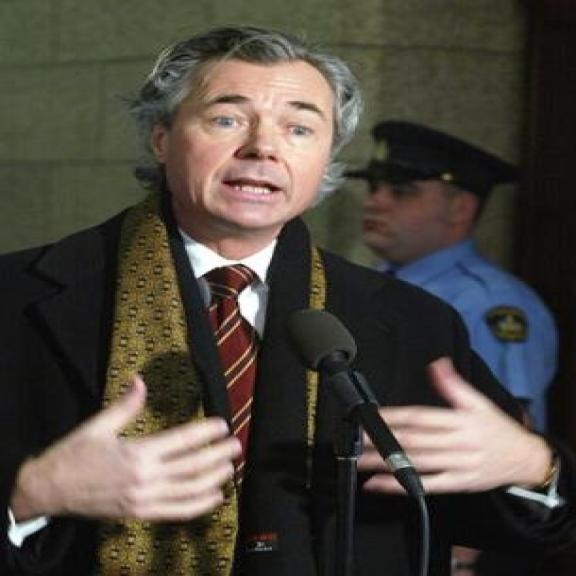face: (148, 58, 344, 235), (354, 171, 480, 252)
